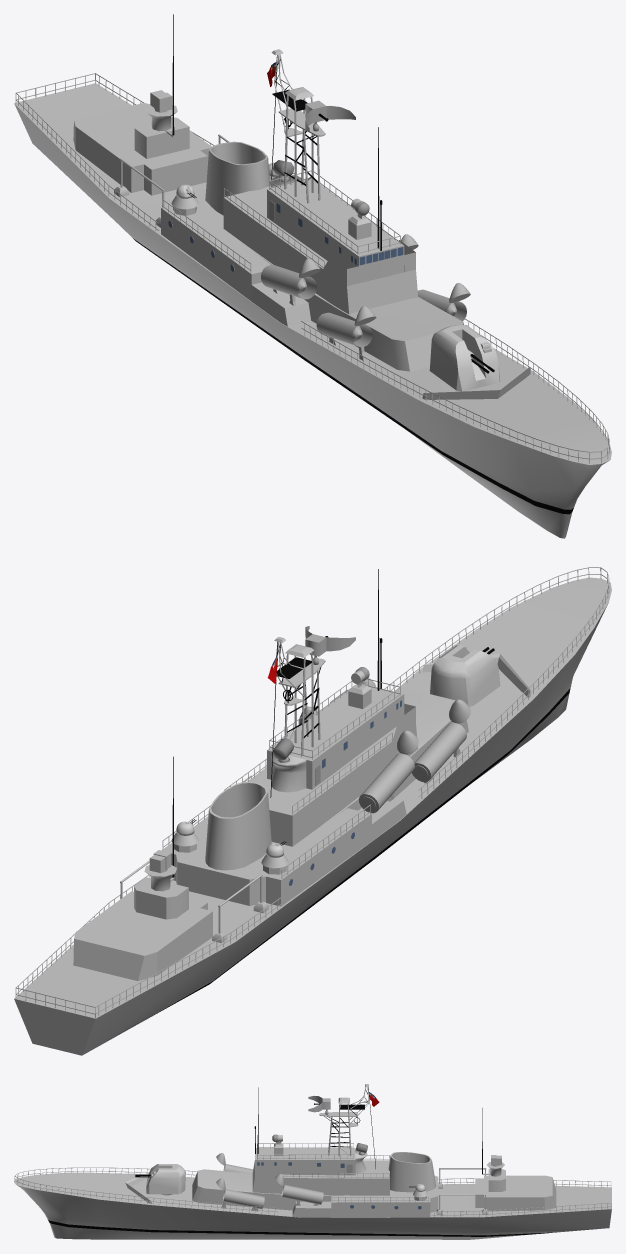
File: Kotor-ClassFrigate.fbx
3 views of the same model, one above another, from view 1: azimuth 30°, elevation 25°; view 2: azimuth 150°, elevation 25°; view 3: azimuth 270°, elevation 25° (orthographic). The views are drawn at different scales.
Parts seen in each view (by area): view 1: KotorFrigate_body, AK726_turret, P15_front_right, P15_back_right, P15_front_left, RadarTurret; view 2: KotorFrigate_body, AK726_turret, P15_front_right, P15_back_right, RadarTurret; view 3: KotorFrigate_body, AK726_turret, P15_front_left, P15_back_left, RadarTurret, P15_front_right.
Boxes of the visible parts, x1,y1,x2,y2 form: KotorFrigate_body: (14,14,611,538); AK726_turret: (429,325,499,391); P15_front_right: (316,306,376,360); P15_back_right: (261,258,320,305); P15_front_left: (417,283,470,321); RadarTurret: (305,100,355,131); KotorFrigate_body: (14,567,611,1055); AK726_turret: (430,645,500,706); P15_front_right: (412,699,470,783); P15_back_right: (358,730,418,813); RadarTurret: (305,626,355,664); KotorFrigate_body: (14,1084,611,1239); AK726_turret: (146,1164,185,1195); P15_front_left: (216,1178,264,1211); P15_back_left: (275,1174,323,1205); RadarTurret: (308,1096,330,1114); P15_front_right: (216,1153,253,1173).
Bounding box in the file's own units: 0.9697 × 2.06 × 7.31.
